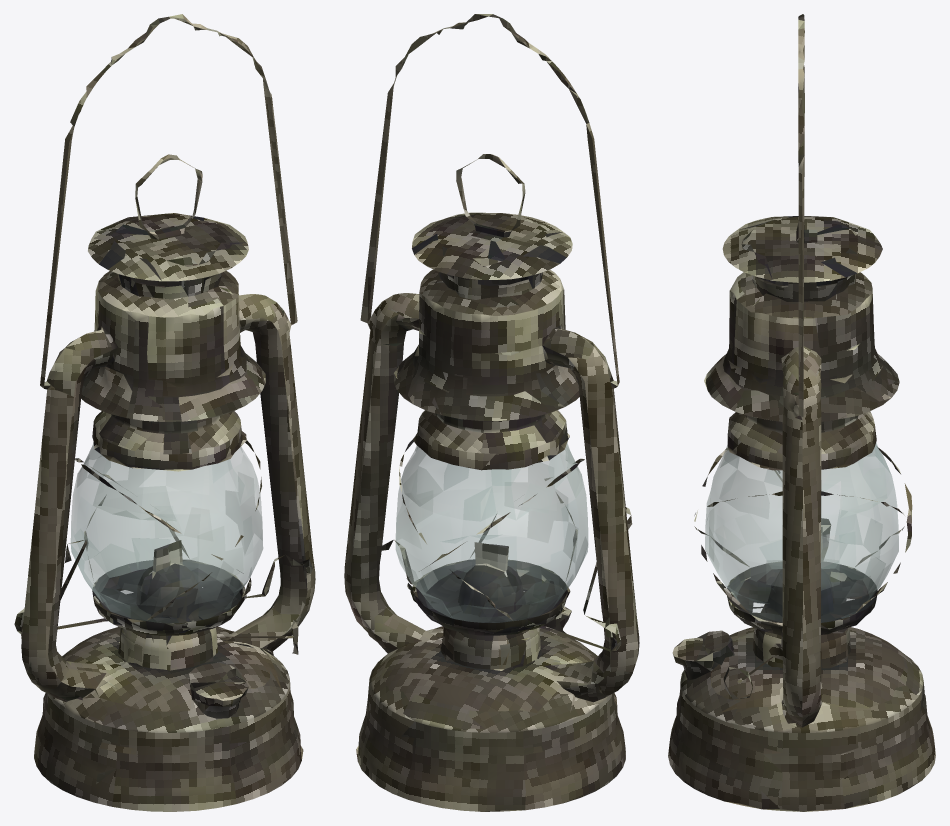
File: b_lantern.glb
3 views of the same model, side by side, from view 1: azimuth 30°, elevation 25°; view 2: azimuth 150°, elevation 25°; view 3: azimuth 270°, elevation 25° (orthographic).
Parts seen in each view (by area): view 1: body, glass; view 2: body, glass; view 3: body, glass.
Boxes of the visible parts, box(x1,y1,x2,y2) form: body: box(14, 14, 315, 811); glass: box(70, 442, 263, 623); body: box(344, 14, 639, 811); glass: box(395, 443, 588, 622); body: box(668, 14, 935, 811); glass: box(705, 442, 898, 622).
Bounding box in the file's own units: 0.1224 × 0.2942 × 0.097.
2 materials, 2 textured.
